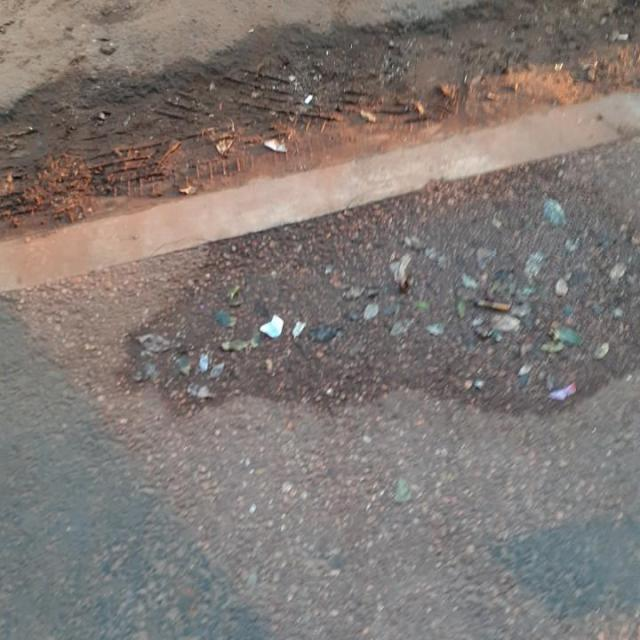litter: (73, 44, 636, 448)
